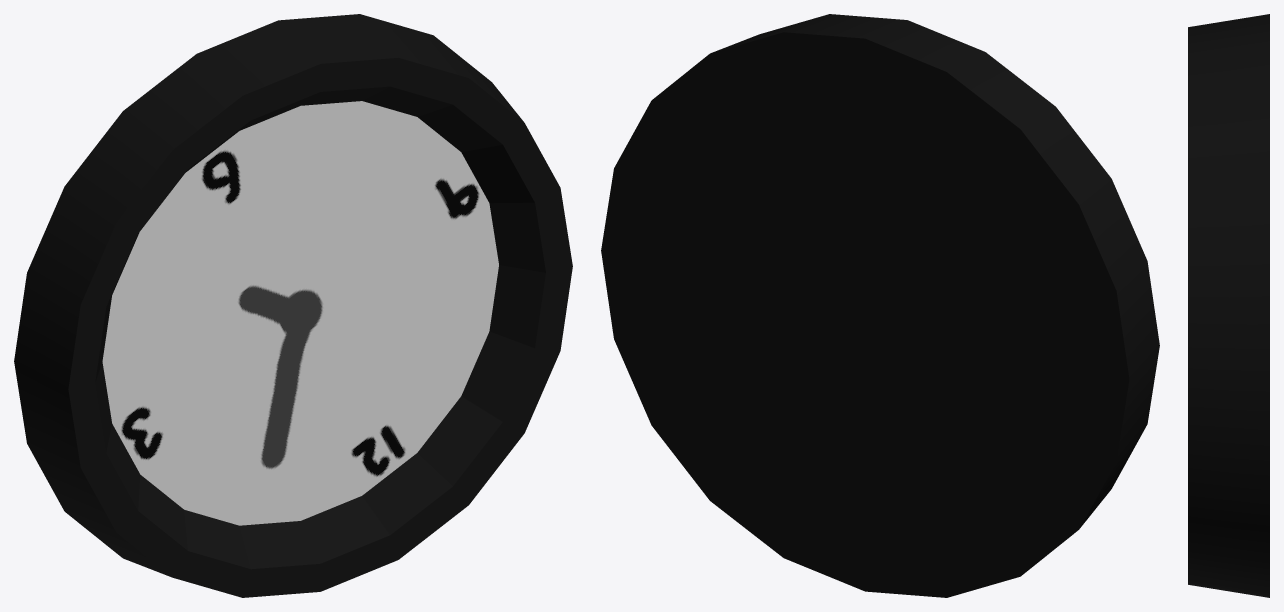
Rendered from Wallclock.fbx.
3 views of the same model, side by side, from view 1: azimuth 30°, elevation 25°; view 2: azimuth 150°, elevation 25°; view 3: azimuth 270°, elevation 25° (orthographic). The views are drawn at different scales.
Parts seen in each view (by area): view 1: WallClock; view 2: WallClock; view 3: WallClock.
Boxes of the visible parts, x1,y1,x2,y2 form: WallClock: [14, 14, 572, 597]; WallClock: [601, 14, 1159, 597]; WallClock: [1188, 14, 1269, 597].
Bounding box in the file's own units: 2.33 × 2.33 × 0.3242.
1 material, 1 textured.
